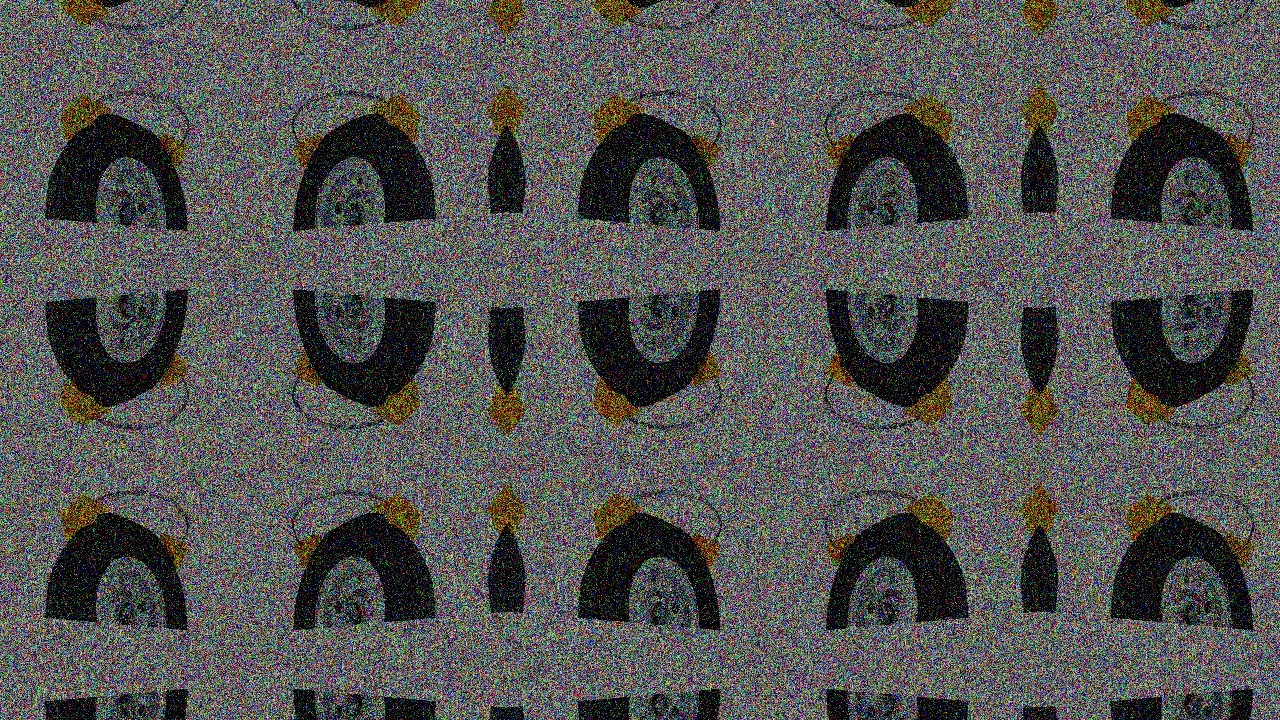chock: (57, 92, 111, 145), (369, 92, 423, 145), (590, 92, 644, 145), (902, 92, 956, 145), (1124, 92, 1178, 145), (57, 375, 111, 428), (369, 375, 423, 428), (590, 375, 644, 428), (902, 375, 956, 428), (1124, 375, 1178, 428), (57, 492, 111, 545), (369, 492, 423, 545), (590, 492, 644, 545), (902, 492, 956, 545), (1124, 492, 1178, 545), (684, 133, 722, 173), (825, 133, 863, 173), (1217, 133, 1255, 173), (684, 347, 722, 387), (825, 347, 863, 387), (1217, 347, 1255, 387), (684, 533, 722, 573), (825, 533, 863, 573), (1217, 533, 1255, 573), (57, 0, 111, 28), (369, 0, 423, 28), (590, 0, 644, 28), (902, 0, 956, 28), (1124, 0, 1178, 28), (151, 133, 188, 173), (292, 133, 329, 173), (151, 347, 188, 387), (292, 347, 329, 387), (151, 533, 188, 573), (292, 533, 329, 573), (486, 82, 507, 135), (507, 82, 528, 135), (1019, 82, 1040, 135), (1040, 82, 1061, 135), (486, 385, 507, 438), (507, 385, 528, 438), (1019, 385, 1040, 438), (1040, 385, 1061, 438), (486, 482, 507, 535), (507, 482, 528, 535), (1019, 482, 1040, 535), (1040, 482, 1061, 535), (486, 0, 507, 38), (507, 0, 528, 38), (1019, 0, 1040, 38), (1040, 0, 1061, 38)
wheel: (816, 107, 970, 230), (1110, 107, 1264, 230), (816, 290, 970, 413), (1110, 290, 1264, 413), (816, 507, 970, 630), (1110, 507, 1264, 630), (44, 107, 197, 230), (283, 107, 436, 230), (577, 107, 730, 230), (44, 290, 197, 413), (283, 290, 436, 413), (577, 290, 730, 413), (44, 507, 197, 630), (283, 507, 436, 630), (577, 507, 730, 630), (816, 690, 970, 720), (1110, 690, 1264, 720), (44, 690, 197, 720), (283, 690, 436, 720), (577, 690, 730, 720), (816, 0, 970, 13), (1110, 0, 1264, 13), (44, 0, 197, 13), (283, 0, 436, 13), (577, 0, 730, 13)
